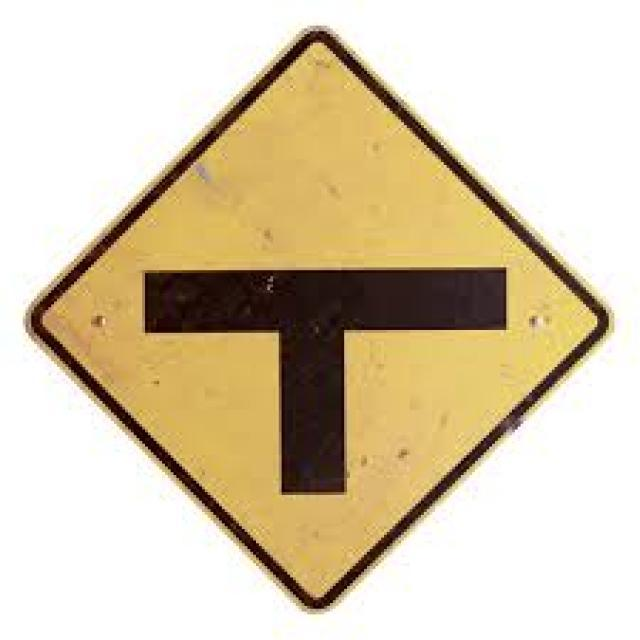t intersection: (31, 35, 604, 585)
